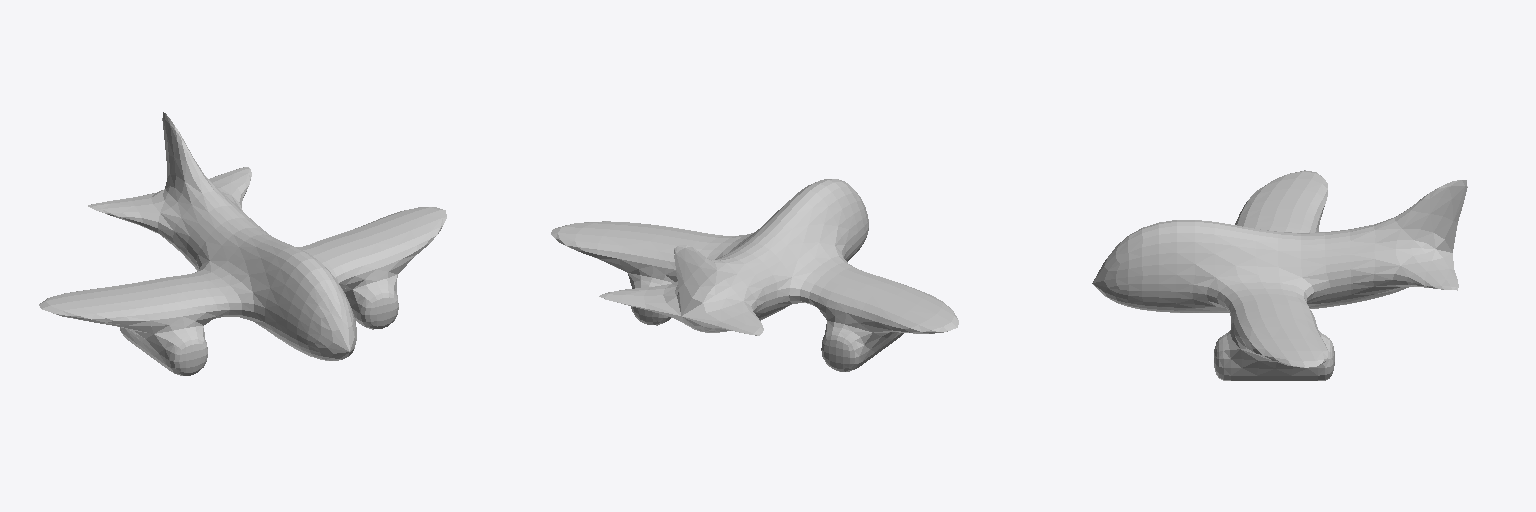
Rendered from Simple Plane HD.obj.
3 views of the same model, side by side, from view 1: azimuth 30°, elevation 25°; view 2: azimuth 150°, elevation 25°; view 3: azimuth 270°, elevation 25° (orthographic).
Visible parts, largest first — view 1: Aircraft; view 2: Aircraft; view 3: Aircraft.
Part boxes in pixels (left/top/right/bottom): Aircraft: left=39, top=112, right=446, bottom=375; Aircraft: left=551, top=179, right=958, bottom=371; Aircraft: left=1092, top=170, right=1467, bottom=380.
Size of the model in its own units: 1.94 by 0.7008 by 1.56.